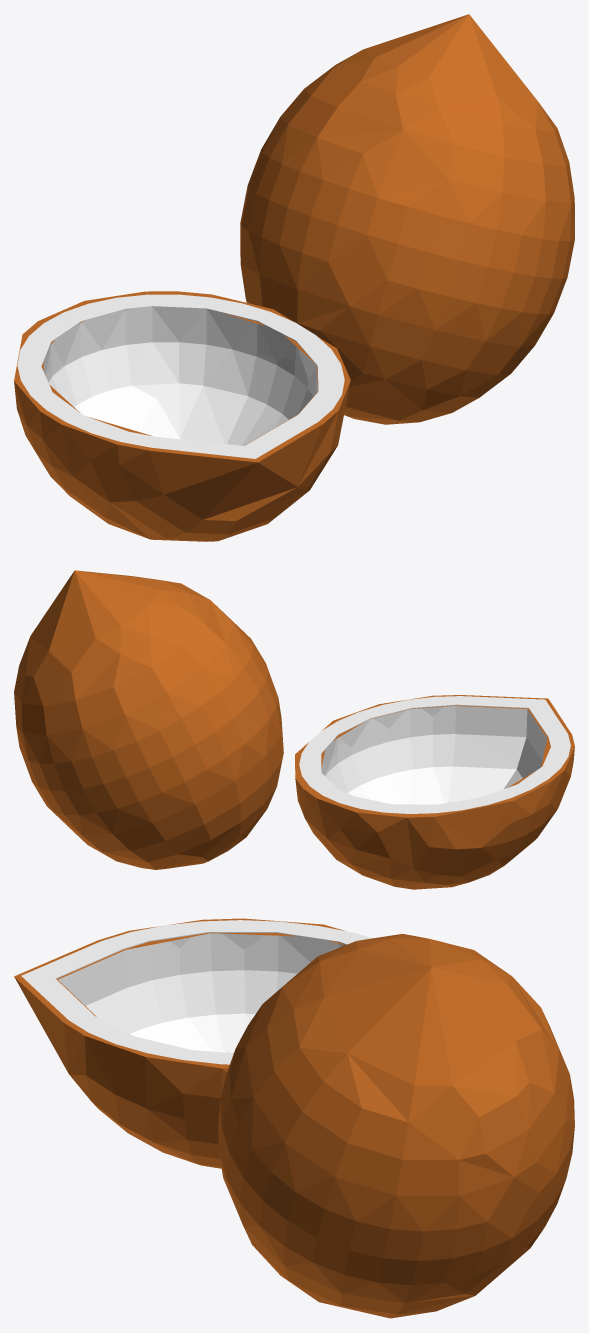
Rendered from m_coco.glb.
The picture shows the model from 3 angles, top to bottom: view 1: azimuth 30°, elevation 25°; view 2: azimuth 150°, elevation 25°; view 3: azimuth 270°, elevation 25°; orthographic projection. The views are drawn at different scales.
Parts seen in each view (by area): view 1: Sphere001, Object001; view 2: Sphere001, Object001; view 3: Sphere001, Object001.
Part boxes in pixels (left/top/right/bottom): Sphere001: left=240, top=14, right=574, bottom=424; Object001: left=14, top=291, right=350, bottom=541; Sphere001: left=14, top=570, right=283, bottom=869; Object001: left=295, top=695, right=574, bottom=889; Sphere001: left=218, top=933, right=574, bottom=1318; Object001: left=14, top=918, right=372, bottom=1168.
Size of the model in its own units: 516198 by 301291 by 398930.
